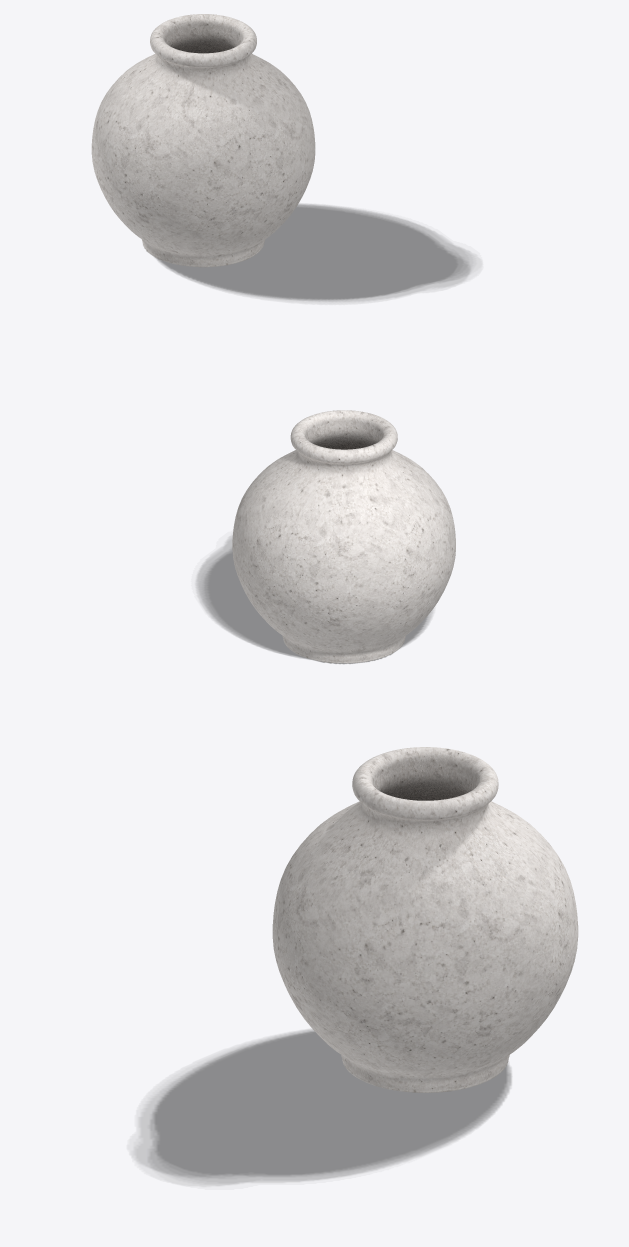
The model's file is vase-large-white.glb.
3 renders of one model, top to bottom at view 1: azimuth 30°, elevation 25°; view 2: azimuth 150°, elevation 25°; view 3: azimuth 270°, elevation 25°, orthographic. The views are drawn at different scales.
Parts seen in each view (by area): view 1: vase-large-white, vase-large-white ground shadow; view 2: vase-large-white, vase-large-white ground shadow; view 3: vase-large-white, vase-large-white ground shadow.
Part boxes in pixels (x1=…): vase-large-white: x1=91, y1=14, x2=315, y2=267; vase-large-white ground shadow: x1=156, y1=204, x2=475, y2=301; vase-large-white: x1=232, y1=410, x2=455, y2=663; vase-large-white ground shadow: x1=196, y1=537, x2=432, y2=663; vase-large-white: x1=272, y1=747, x2=578, y2=1092; vase-large-white ground shadow: x1=135, y1=1029, x2=511, y2=1185.
Size of the model in its own units: 0.0632 by 0.033 by 0.0632.
Materials: 2 (2 with a texture image).
